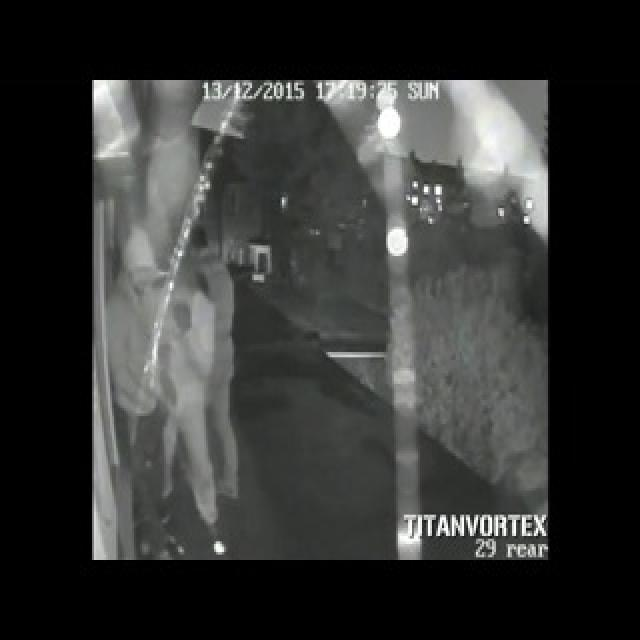thief: (110, 219, 164, 314), (162, 213, 234, 284)
